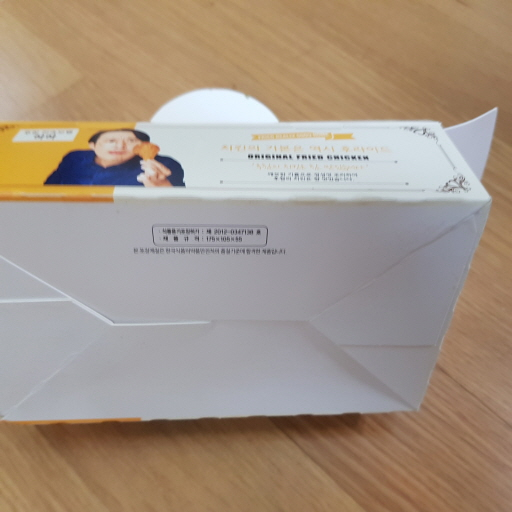Paper_0: (1, 83, 506, 427)
